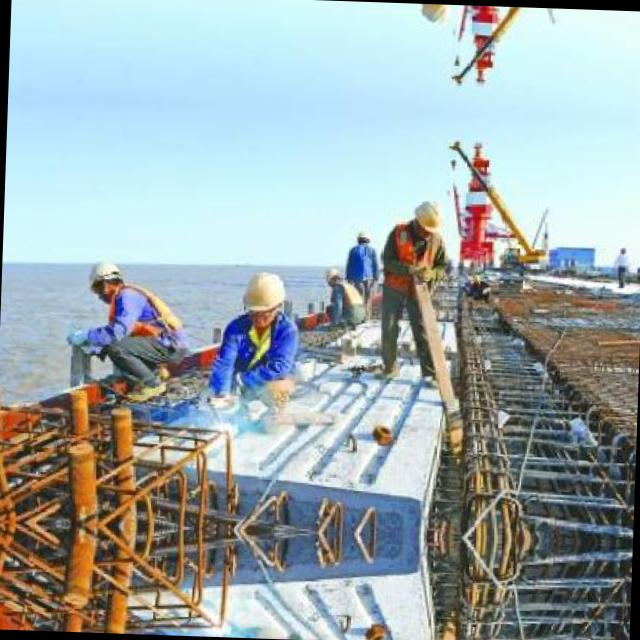helmet: (238, 266, 289, 330), (407, 194, 443, 241), (90, 254, 128, 297), (415, 4, 451, 28), (324, 260, 342, 288), (353, 224, 372, 247)
